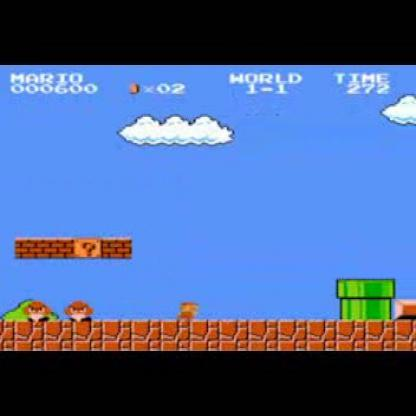Goomba: (63, 297, 99, 324), (25, 300, 51, 320)
